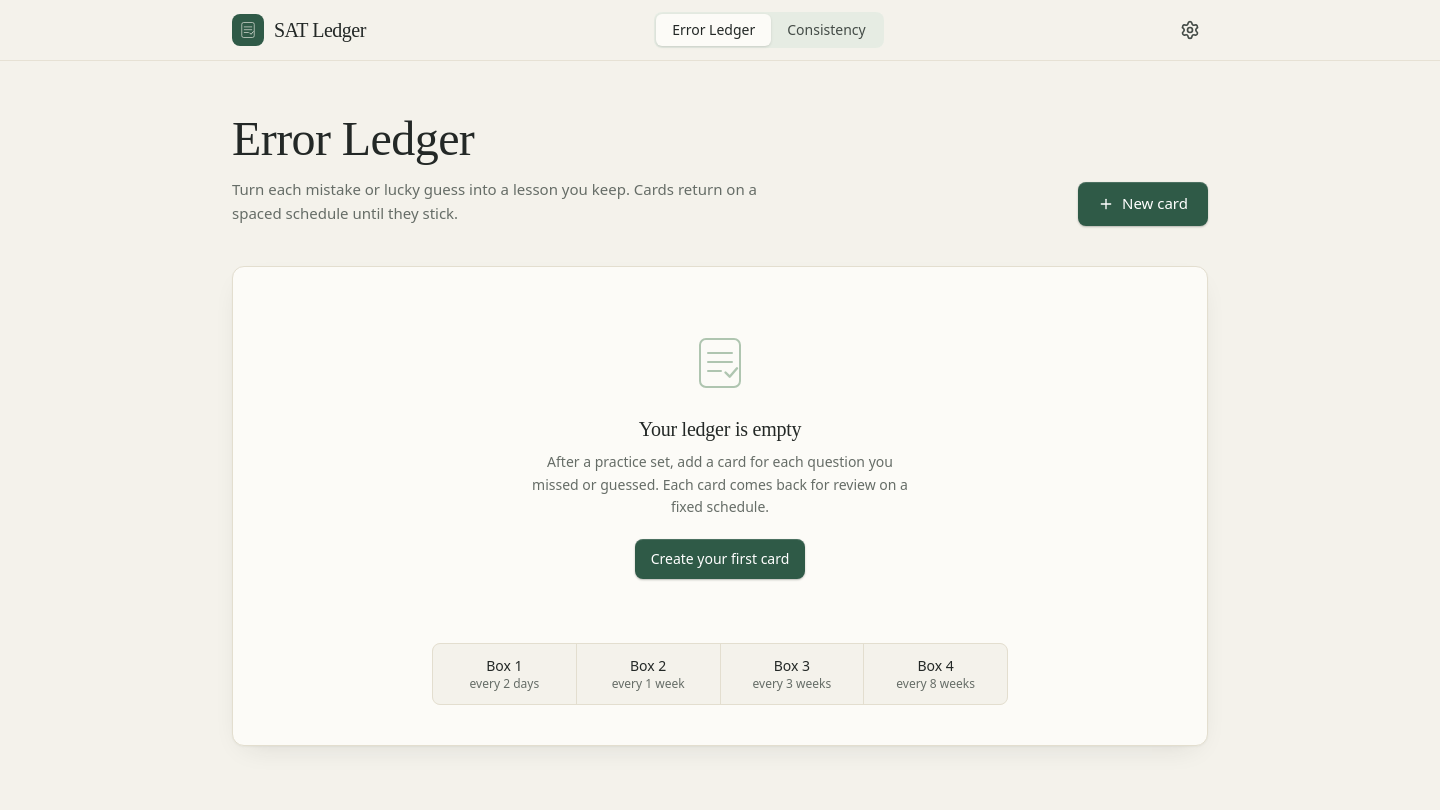
Scenario: Consistency › shows the weekly target and the planned week
Click the tab "Consistency" at (826, 30), box [771,14,882,46]
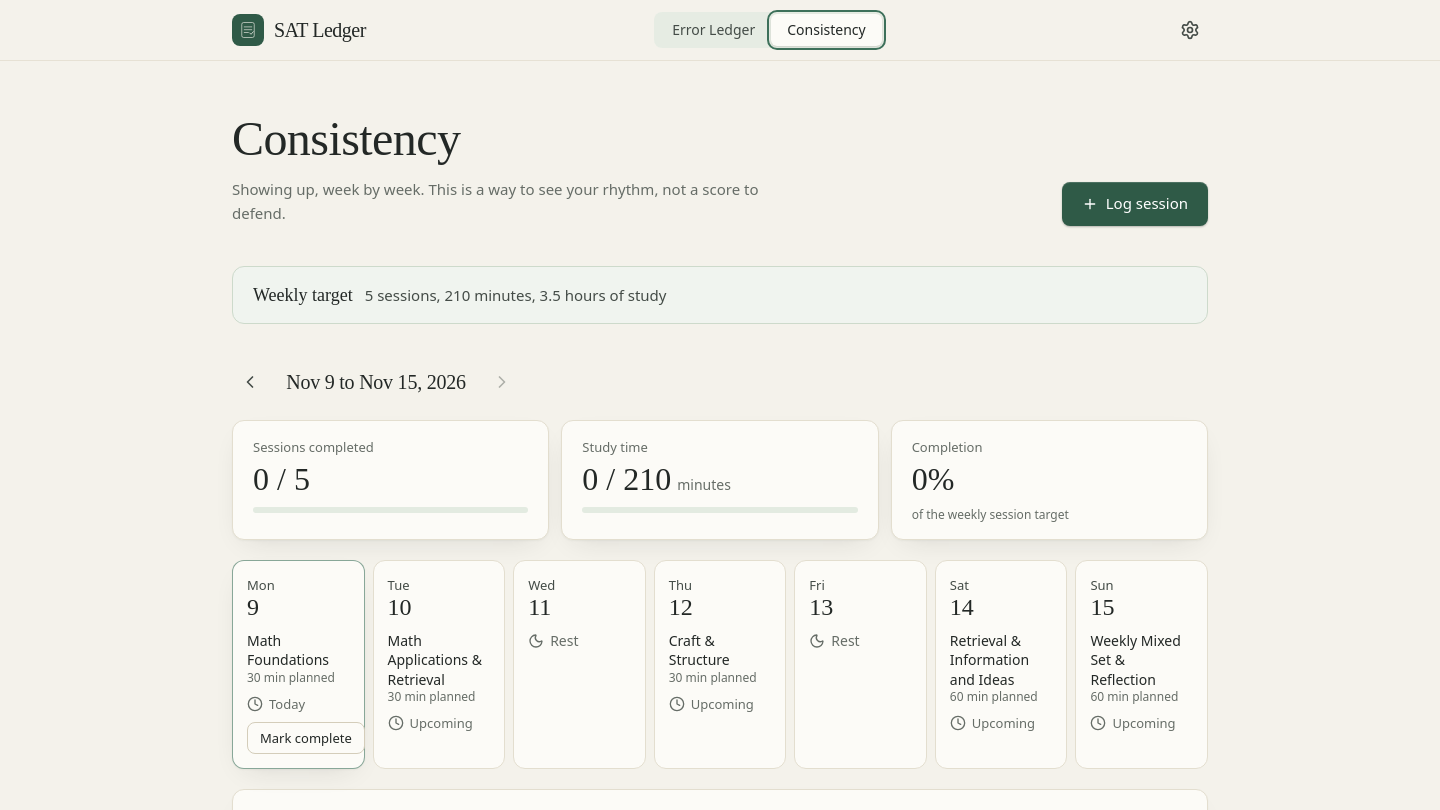
Expected: the heading "Consistency" is shown, [232,112,460,165]
Expected: the text "5 sessions, 210 minutes, 3.5 hours of study" is shown, [365,284,666,307]
Expected: the text "Craft & Structure" is shown, [669,631,730,669]
